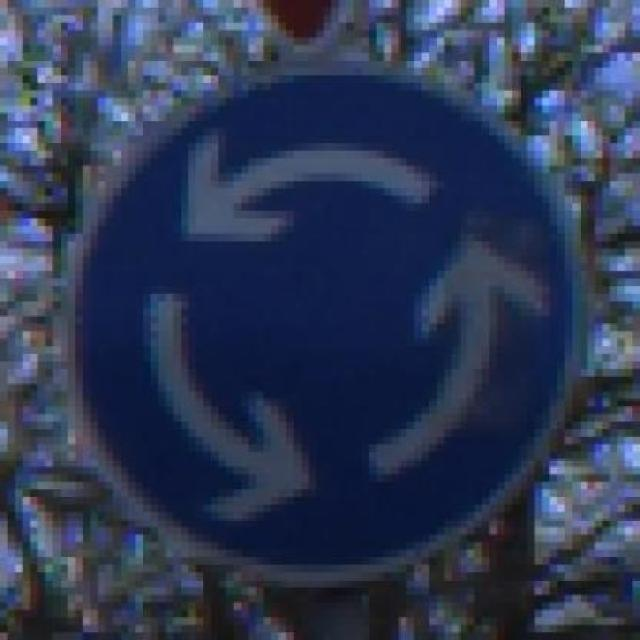Round-About: (45, 60, 602, 595)
